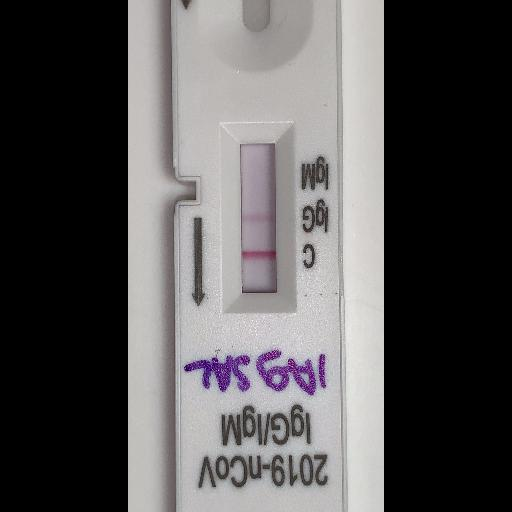Pos: (178, 0, 347, 511)
